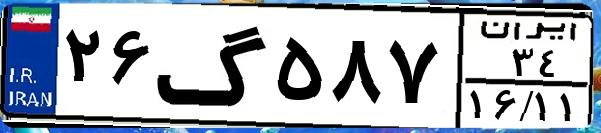1: (560, 70, 590, 125), (470, 70, 495, 125), (535, 70, 560, 125)
2: (57, 26, 110, 100)
3: (508, 27, 537, 80)
4: (537, 27, 568, 80)
5: (270, 28, 330, 110)
6: (110, 28, 156, 98), (495, 70, 520, 125)
7: (385, 28, 445, 110)
8: (330, 28, 385, 110)
گ: (156, 12, 270, 120)
